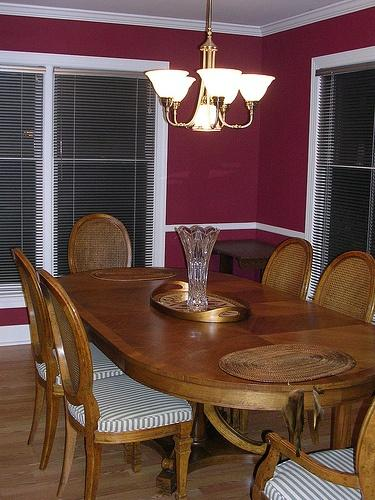tampered: (282, 376, 334, 457)
